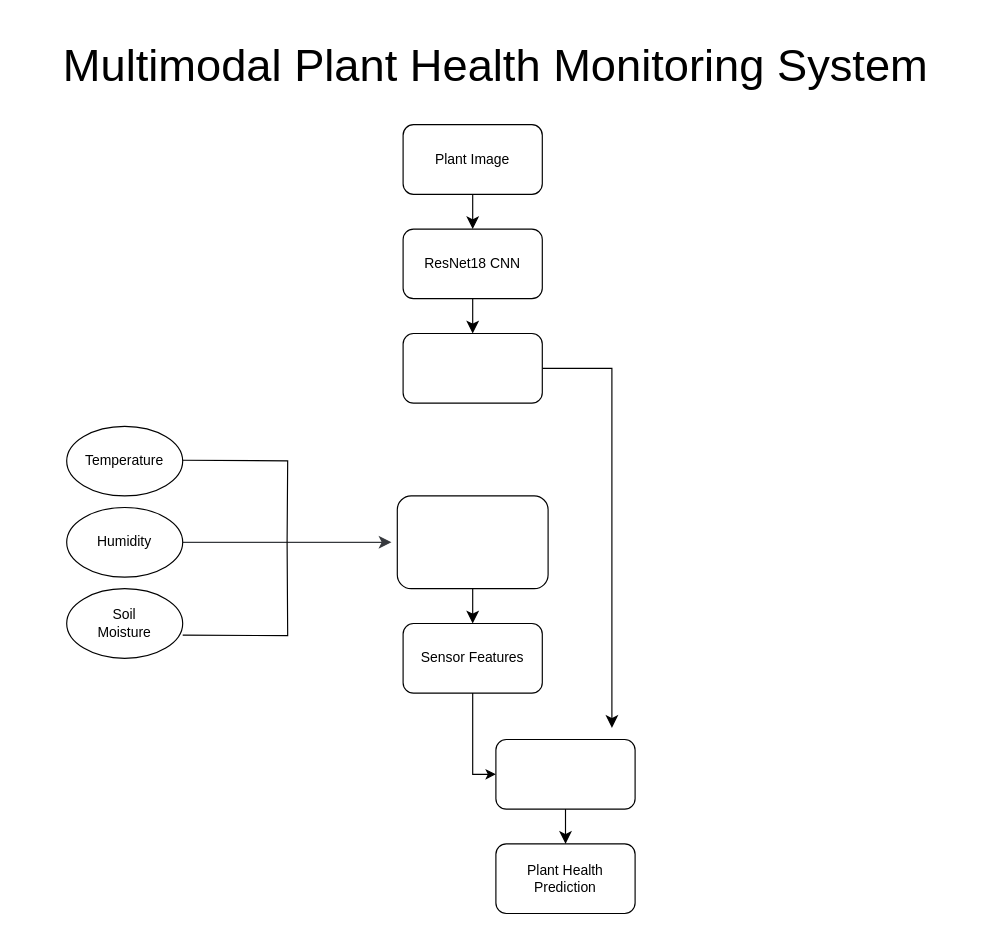
Some shapes in this 991 by 934 pixel diagram are drawn without their labels. The shapes that lost their labels are listed below. From the top down, each one's box as (x1, y1, x2, y2) in pixels, then its label:
(402, 332, 542, 403): Image Features
(396, 495, 548, 589): Sensor MLP Network
(495, 738, 635, 809): Fusion Layer
